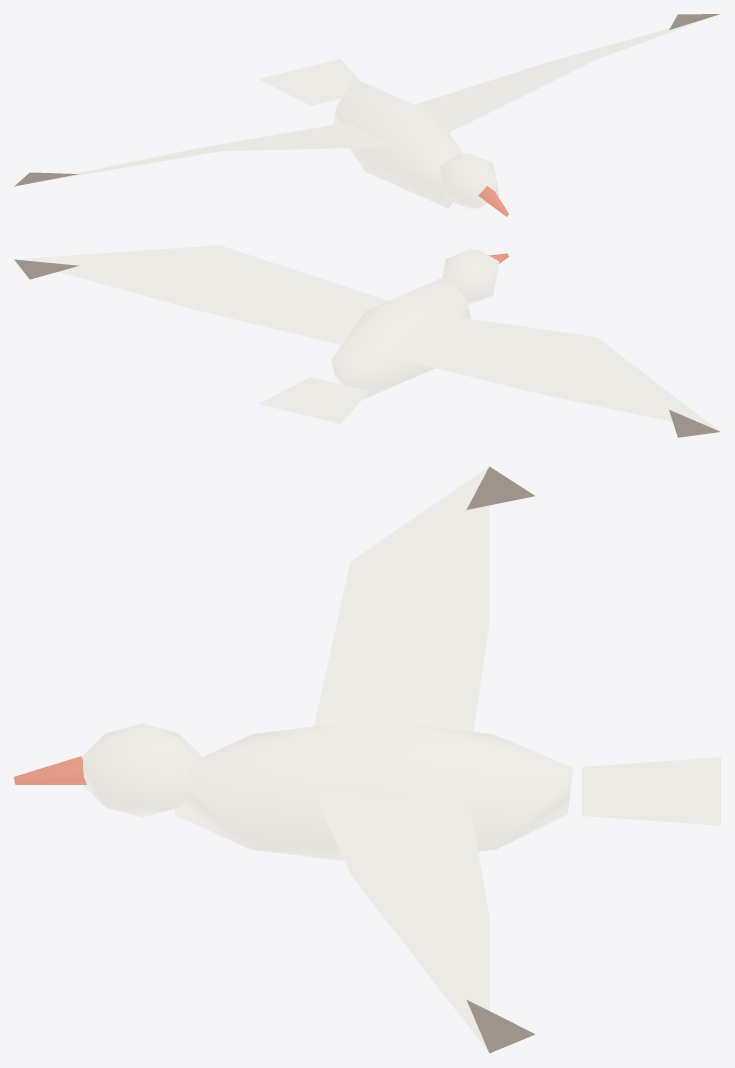
The model's file is Blender_Bird_1.glb.
The picture shows the model from 3 angles, top to bottom: view 1: azimuth 30°, elevation 25°; view 2: azimuth 150°, elevation 25°; view 3: azimuth 270°, elevation 25°; orthographic projection. The views are drawn at different scales.
Visible parts, largest first — view 1: Blender_Bird_1; view 2: Blender_Bird_1; view 3: Blender_Bird_1.
Part boxes in pixels (left/top/right/bottom): Blender_Bird_1: left=14, top=14, right=720, bottom=216; Blender_Bird_1: left=14, top=245, right=720, bottom=437; Blender_Bird_1: left=14, top=466, right=720, bottom=1053.
Size of the model in its own units: 1.2 by 0.1397 by 0.6107.
